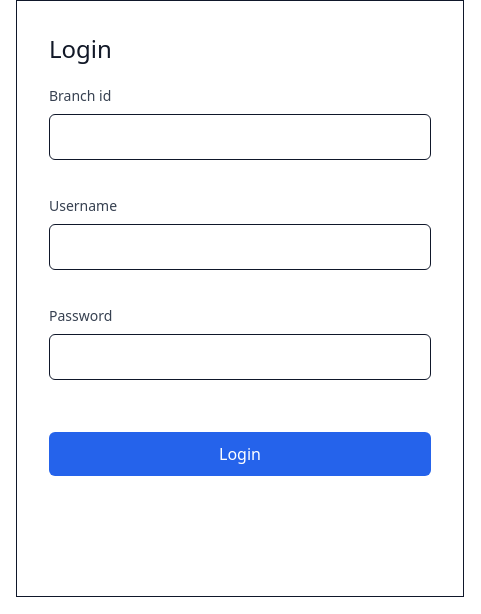
email label is associated with email input
The image size is (481, 614).
Click the field labelled "Username".
click(240, 247)  # box x1=49 y1=224 x2=431 y2=270
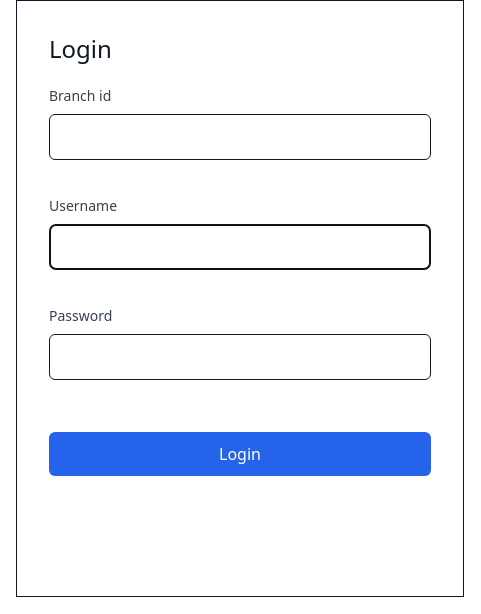
Type keys "hello username"
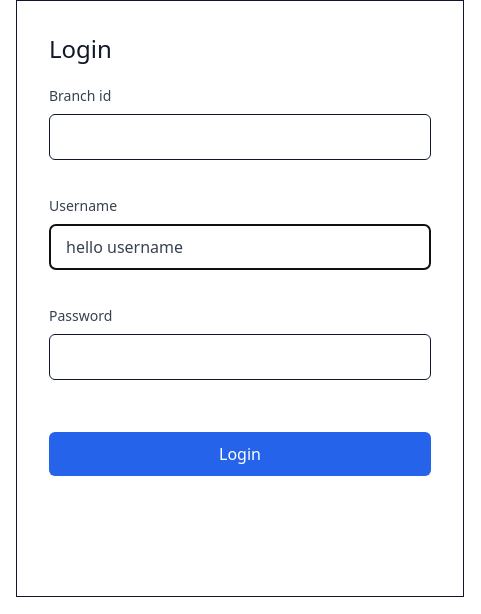
Result: the field showing "hello username" is shown at x1=49 y1=224 x2=431 y2=270
